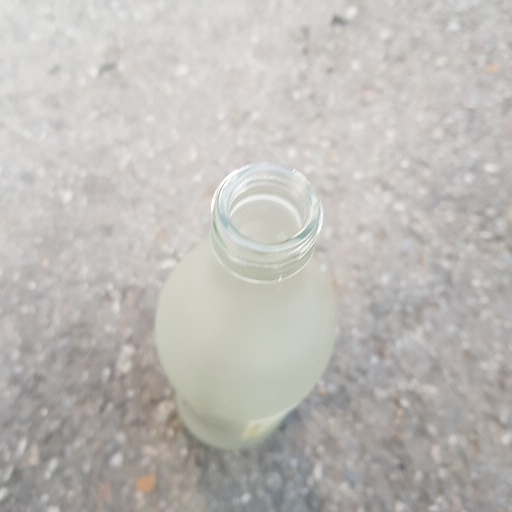Glass_0: (154, 164, 339, 449)
